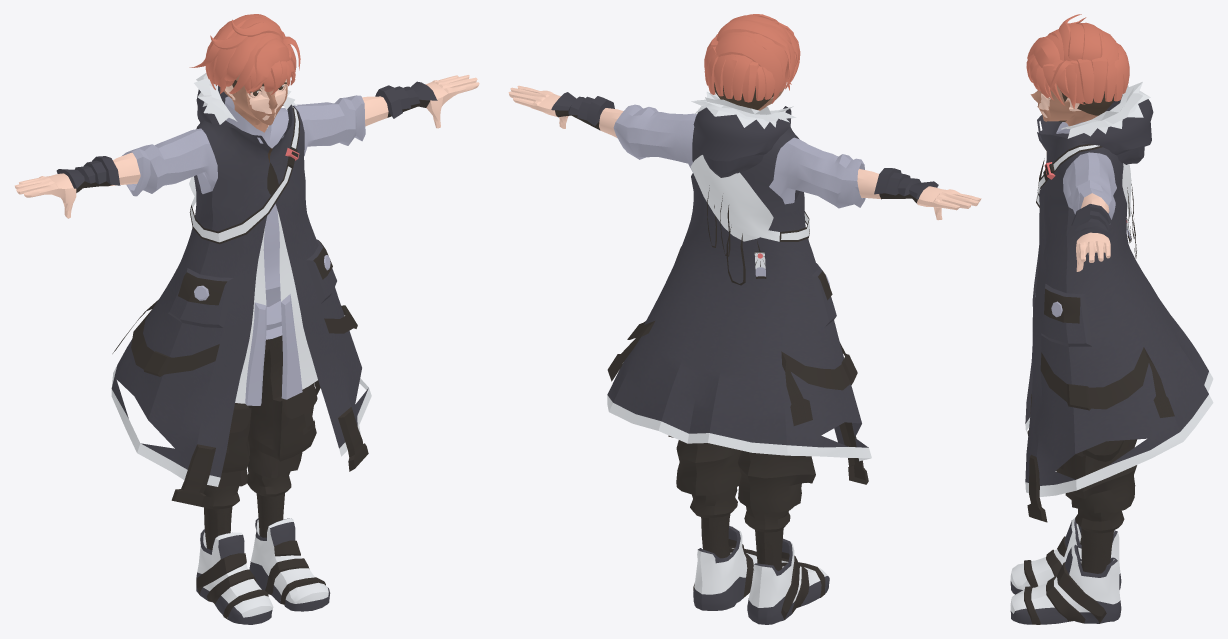
File: Adventurer.glb
3 views of the same model, side by side, from view 1: azimuth 30°, elevation 25°; view 2: azimuth 150°, elevation 25°; view 3: azimuth 270°, elevation 25° (orthographic).
Visible parts, largest first — view 1: model; view 2: model; view 3: model.
Boxes of the visible parts, x1=… form: model: x1=14, y1=14, x2=479, y2=624; model: x1=508, y1=14, x2=981, y2=624; model: x1=1010, y1=14, x2=1213, y2=624.
Bounding box in the file's own units: 1.06 × 1.27 × 0.4033.
Materials: 2 (2 with a texture image).
